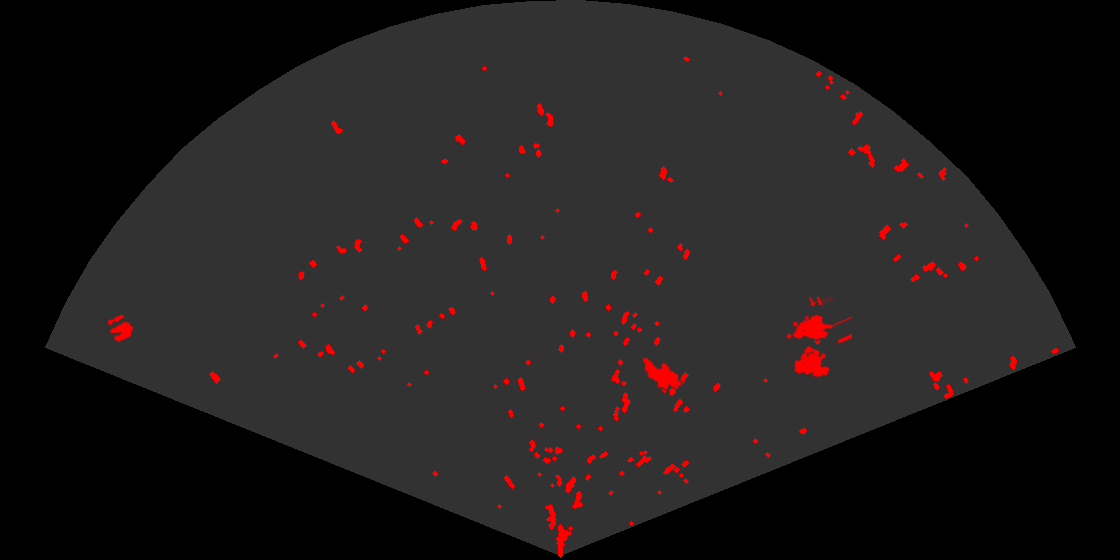AUV: (641, 356, 683, 391)
ball: (106, 313, 135, 343)
cage: (784, 297, 852, 379)
